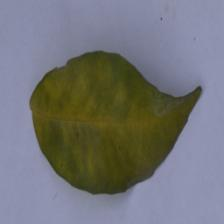greening: (25, 51, 137, 176)
